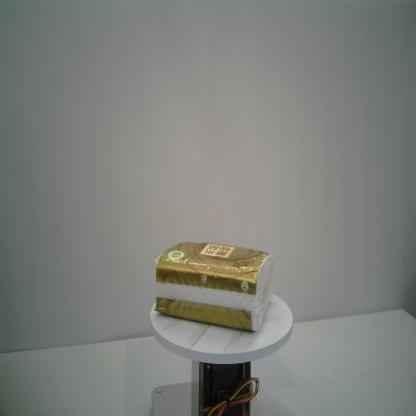Tissue: (154, 240, 274, 333)
